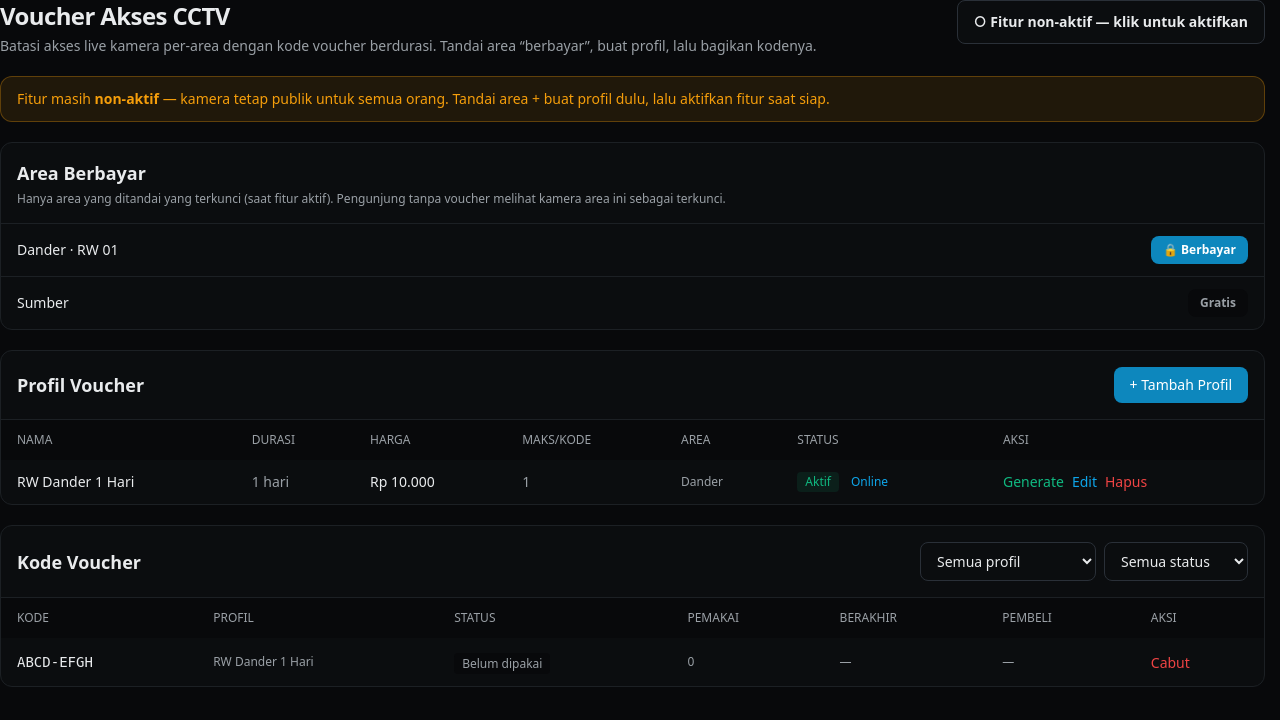
Scenario: VoucherManagement › generates codes from a profile and shows them
Click the button "Generate".
click(1034, 482)  # box x1=1003 y1=472 x2=1064 y2=492
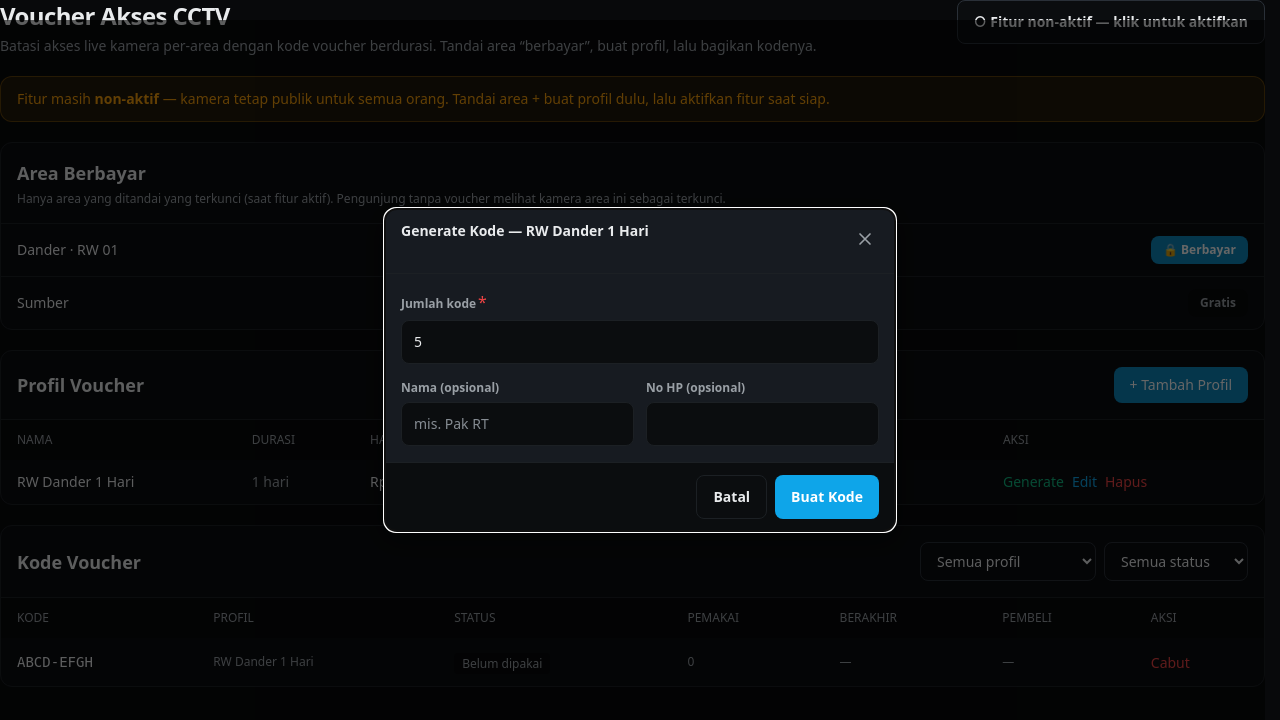
Click the button "Buat Kode".
click(827, 497)  # box x1=775 y1=475 x2=879 y2=519
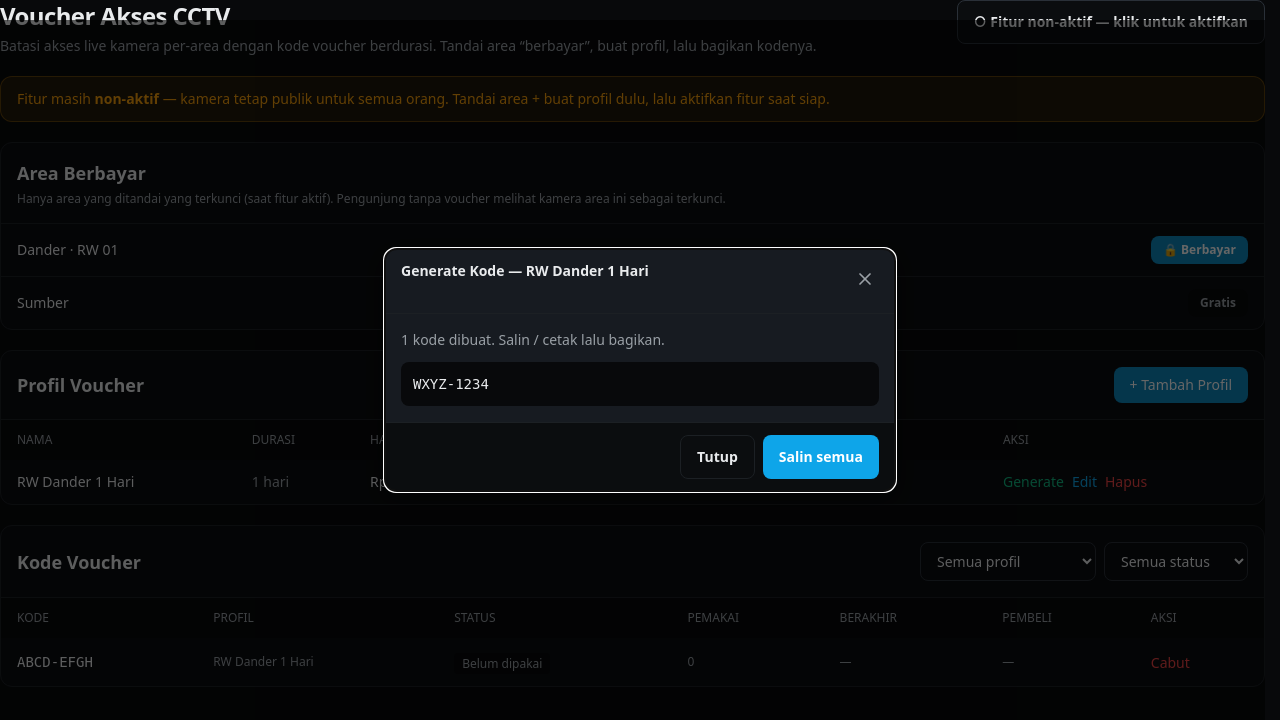
Now the text "WXYZ-1234" is shown, box x1=413 y1=376 x2=489 y2=392
